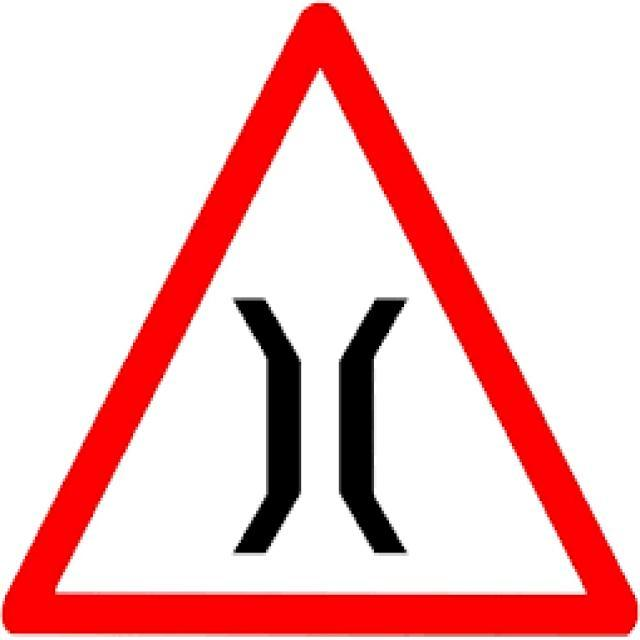narrow bridge ahead: (17, 12, 625, 624)
